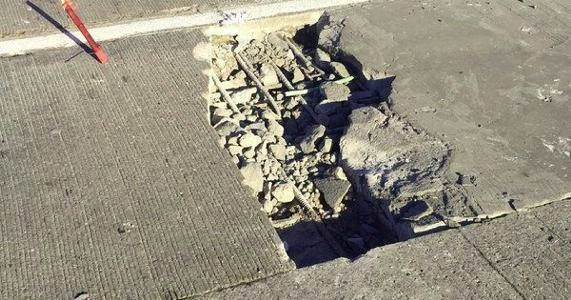pothole: (195, 6, 426, 271)
